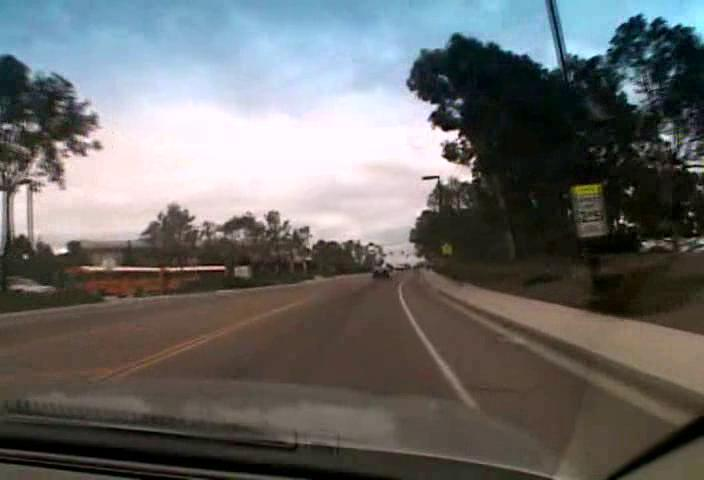schoolSpeedLimit25: (571, 181, 610, 239)
